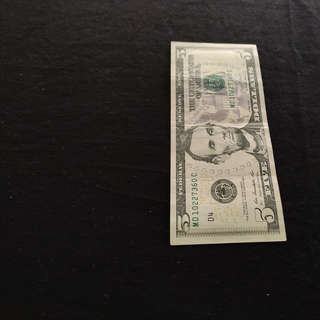5USDFront: (169, 39, 288, 246)
